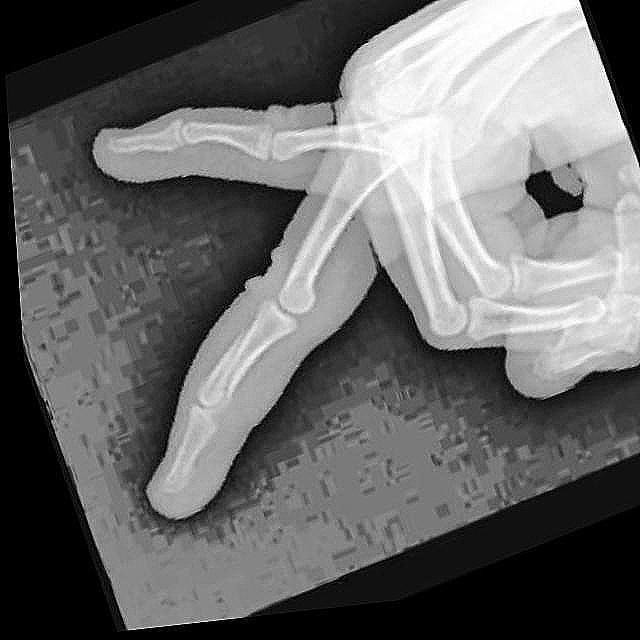bone: (178, 330, 268, 423)
